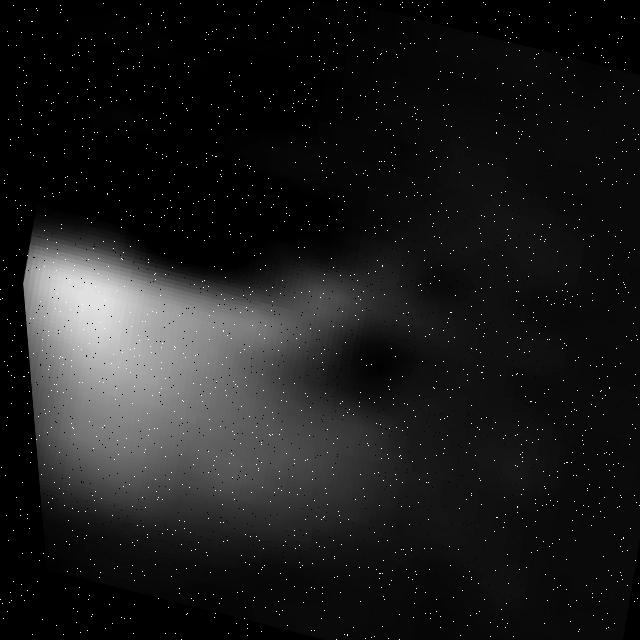person: (13, 193, 445, 601)
